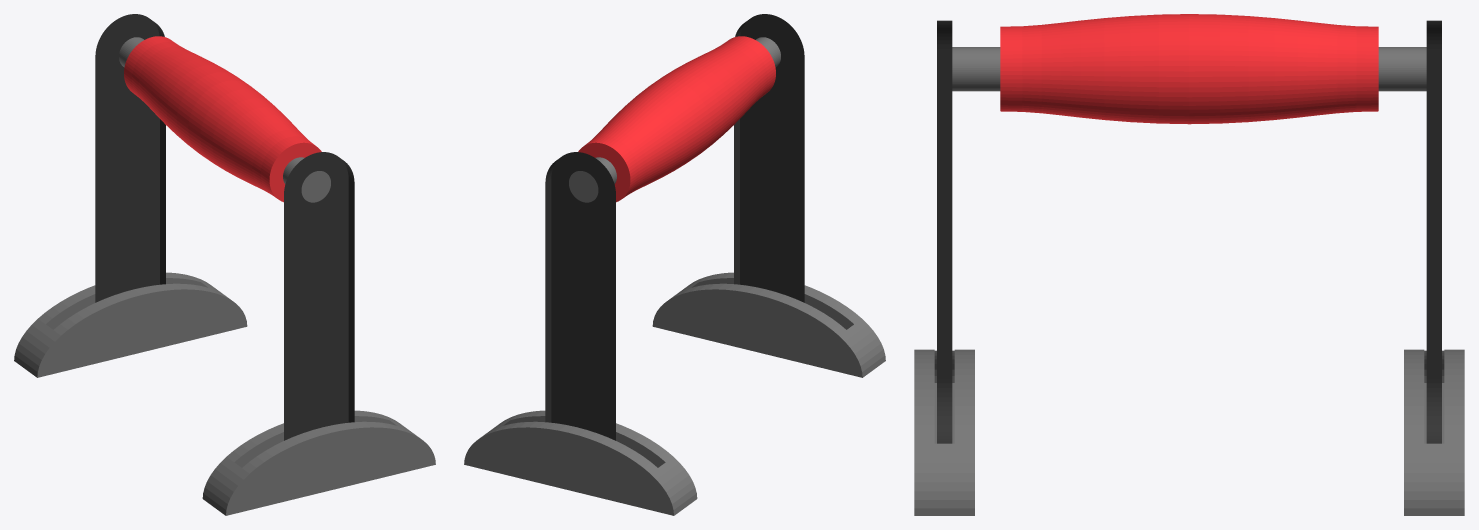
File: Lever.fbx
3 views of the same model, side by side, from view 1: azimuth 30°, elevation 25°; view 2: azimuth 150°, elevation 25°; view 3: azimuth 270°, elevation 25° (orthographic). The views are drawn at different scales.
Parts seen in each view (by area): view 1: Connector, Anchor, Handle, Handle Extra; view 2: Connector, Anchor, Handle, Handle Extra; view 3: Handle, Anchor, Connector, Handle Extra.
Boxes of the visible parts, x1,y1,x2,y2 form: Connector: (95, 14, 354, 440); Anchor: (14, 272, 435, 515); Handle: (124, 36, 321, 202); Handle Extra: (119, 37, 330, 202); Connector: (545, 14, 804, 440); Anchor: (464, 272, 885, 515); Handle: (578, 36, 775, 202); Handle Extra: (569, 37, 780, 202); Handle: (1000, 14, 1378, 124); Anchor: (914, 349, 1464, 515); Connector: (937, 20, 1441, 443); Handle Extra: (952, 47, 1426, 91).
Bounding box in the file's own units: 173 × 261 × 302.
